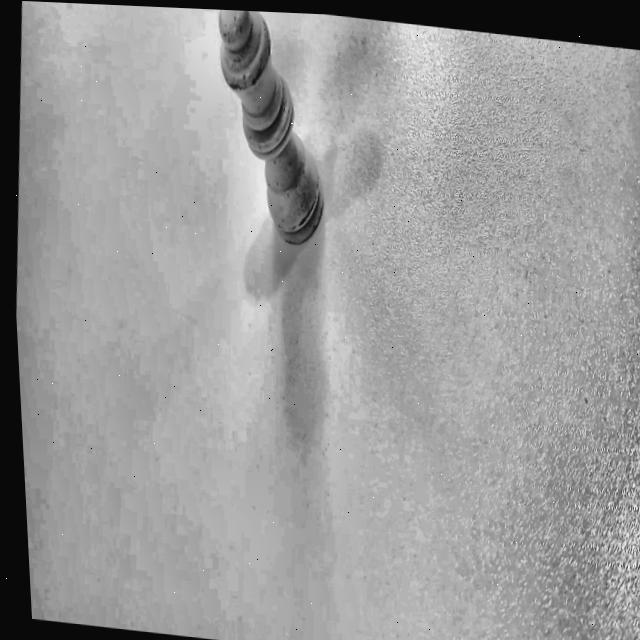white-queen: (180, 8, 355, 283)
